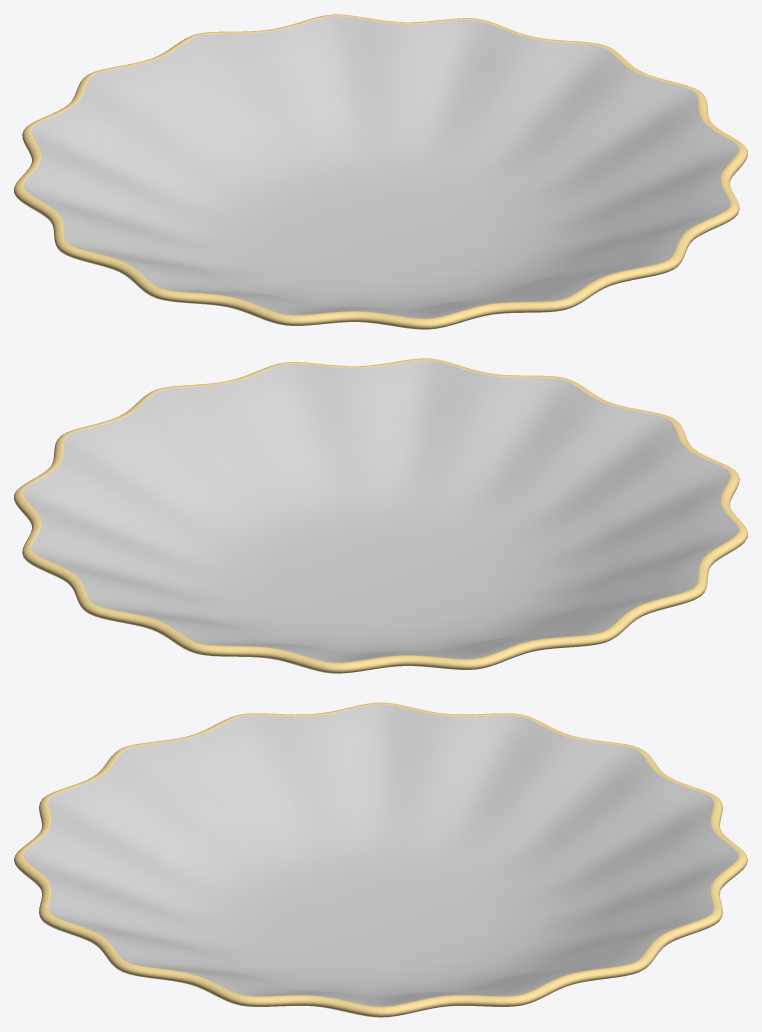
The model's file is dish.glb.
The picture shows the model from 3 angles, top to bottom: view 1: azimuth 30°, elevation 25°; view 2: azimuth 150°, elevation 25°; view 3: azimuth 270°, elevation 25°; orthographic projection.
Visible parts, largest first — view 1: SmallChinaPlate; view 2: SmallChinaPlate; view 3: SmallChinaPlate.
Part boxes in pixels (bbox=[...]): SmallChinaPlate: bbox=[14, 14, 747, 329]; SmallChinaPlate: bbox=[14, 358, 747, 673]; SmallChinaPlate: bbox=[14, 702, 747, 1017].
Bounding box in the file's own units: 15.75 × 1.9 × 15.75.
Materials: 1 (1 with a texture image).
